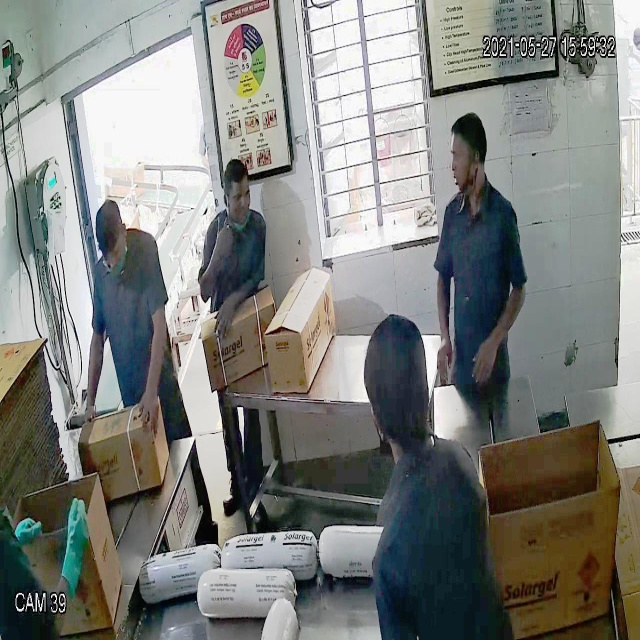Sin_gafas: (448, 140, 483, 169)
